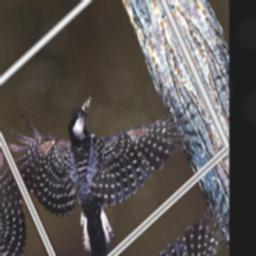Woodpecker: (4, 7, 209, 256)
